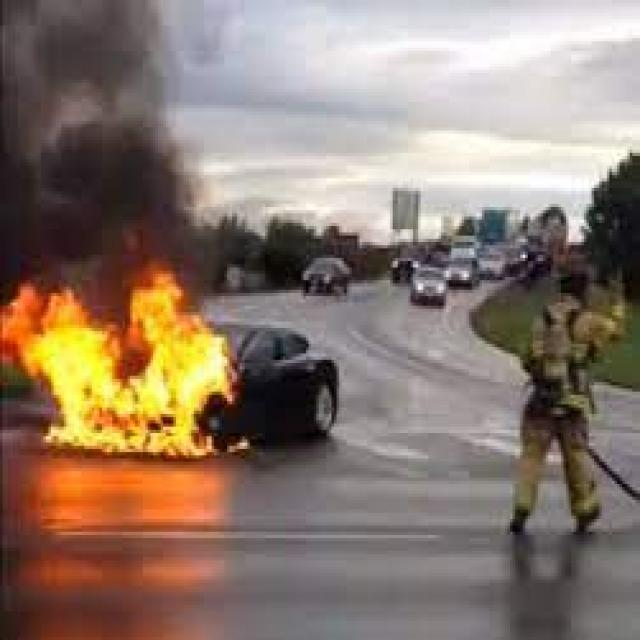fire: (2, 274, 250, 462)
smoke: (3, 3, 219, 277)
